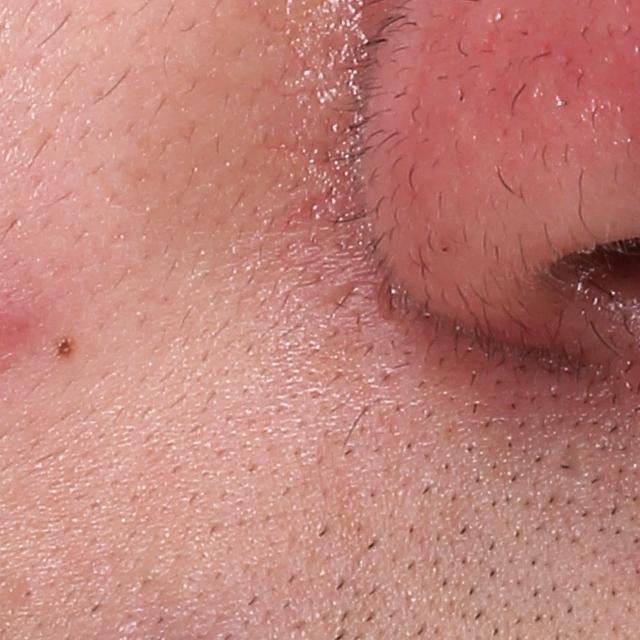atrophic_scar: (554, 436, 589, 485)
comedo: (11, 576, 44, 605)
nevus: (54, 334, 79, 360)
